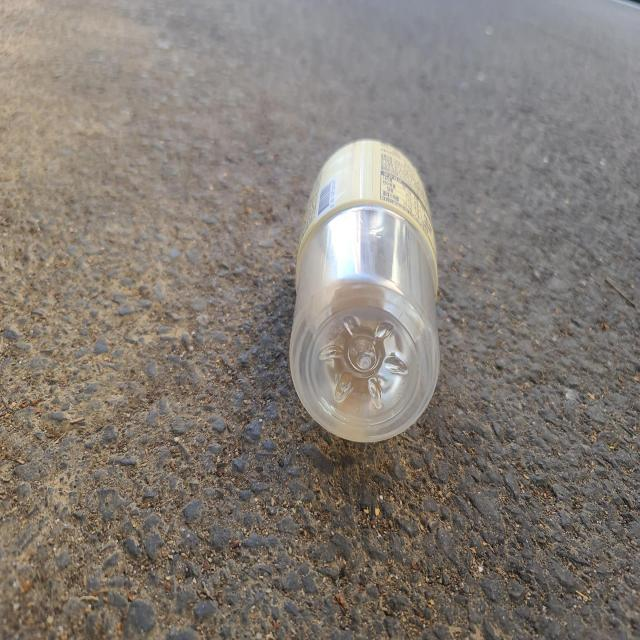plastic: (290, 139, 440, 442)
